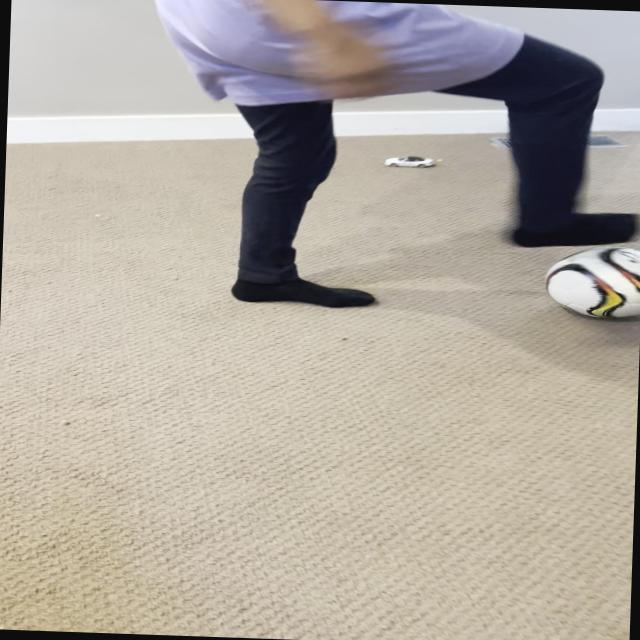Soccer Ball: (542, 244, 640, 319)
